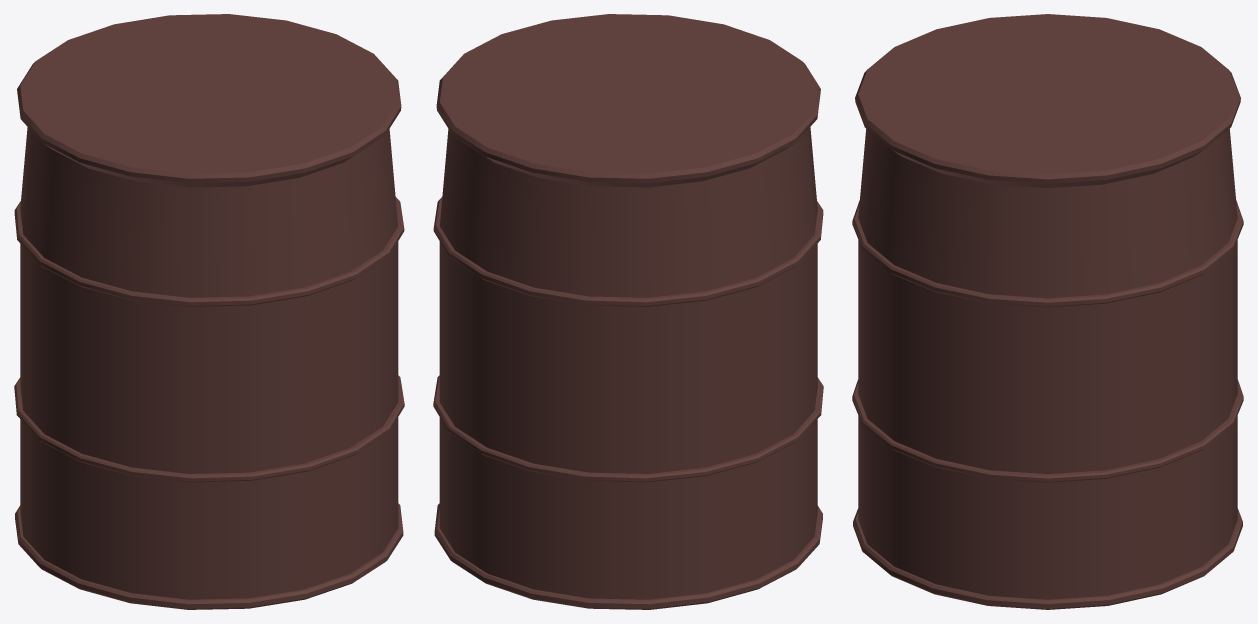
Rendered from Barrel.fbx.
3 views of the same model, side by side, from view 1: azimuth 30°, elevation 25°; view 2: azimuth 150°, elevation 25°; view 3: azimuth 270°, elevation 25° (orthographic).
Visible parts, largest first — view 1: pCylinder12; view 2: pCylinder12; view 3: pCylinder12.
Part boxes in pixels (x1,y1,x2,y2): pCylinder12: (14,14,404,609); pCylinder12: (433,14,823,609); pCylinder12: (852,14,1243,609).
Bounding box in the file's own units: 2.71 × 3.32 × 2.71.
